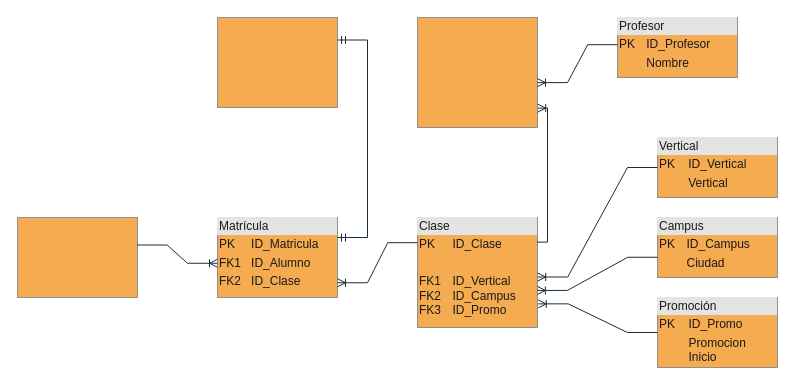
Image size: 795x385. Some labels were removed from this diagram. Each missing label, with the centre of its shape:
"Alumno PK ID_Alumno Nombre email" goes at point 77,257.
"Asignación PK ID_Asignacion FK1 ID_Profesor FK2 ID_Clase Rol Modalidad" goes at point 477,72.
"Expediente PK ID_Matricula HLF Web Dev ..." goes at point 277,62.
